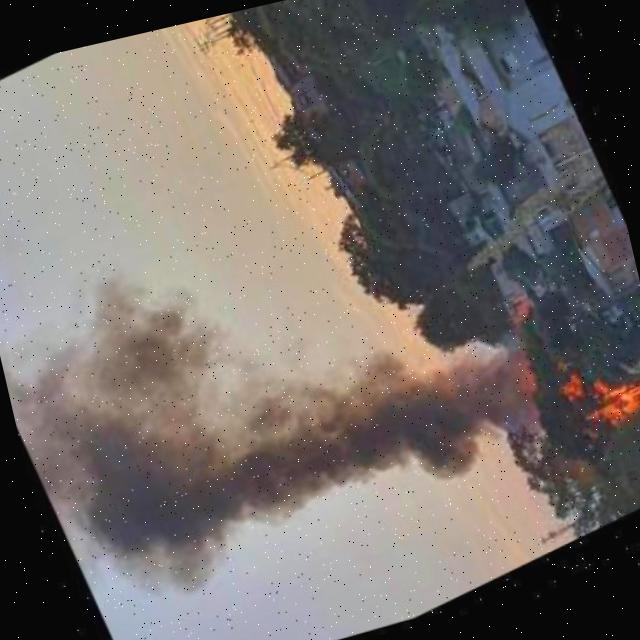fire: (558, 357, 640, 454)
